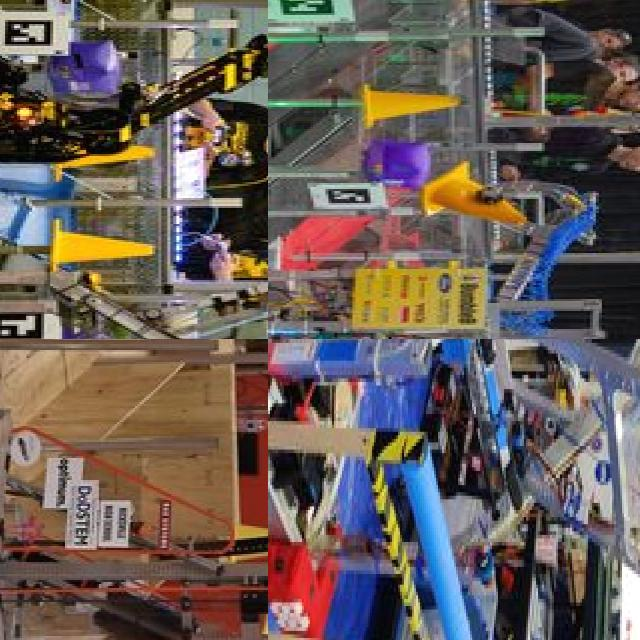FRC-Robots: (268, 339, 640, 640), (0, 365, 268, 640), (268, 148, 640, 339), (0, 0, 268, 198)
